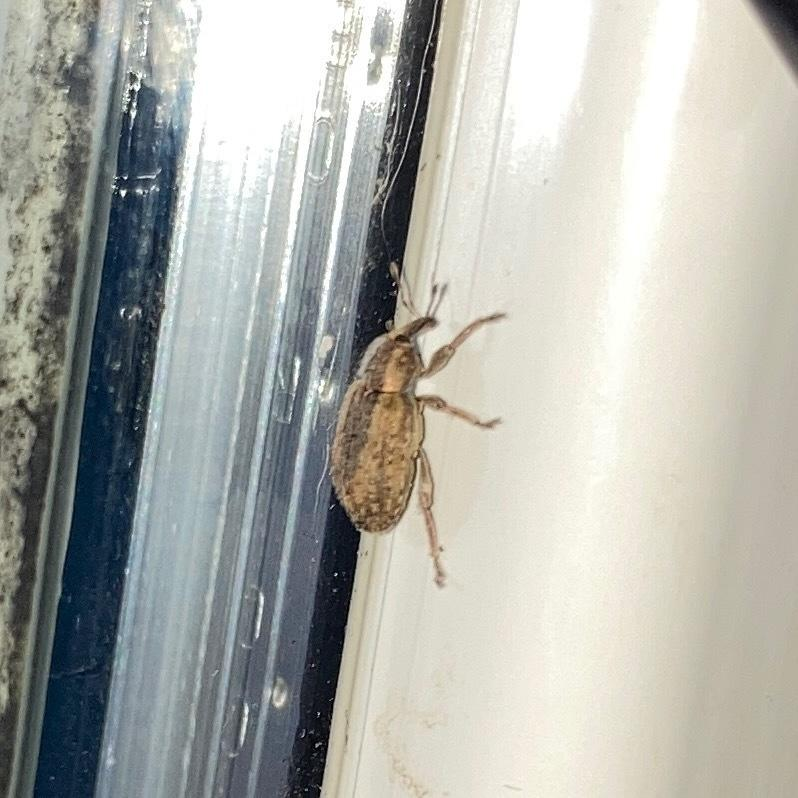weevils: (259, 210, 558, 618)
